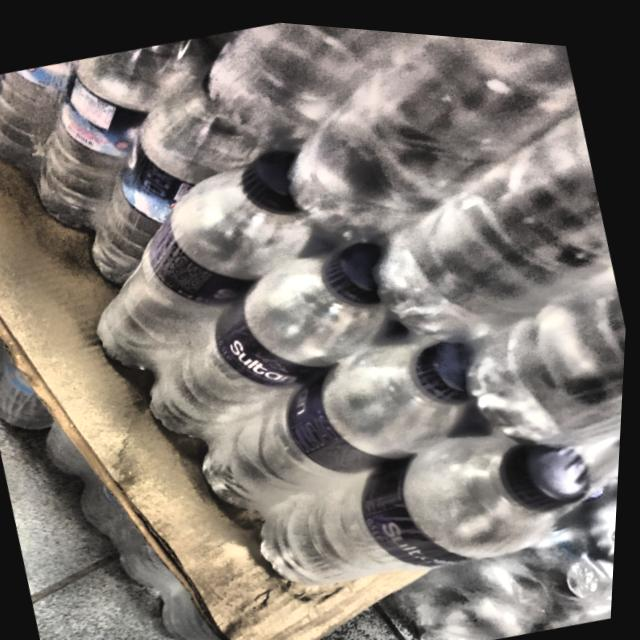Plastic: (68, 108, 406, 382), (174, 300, 522, 544), (253, 389, 609, 617), (6, 23, 236, 237)
